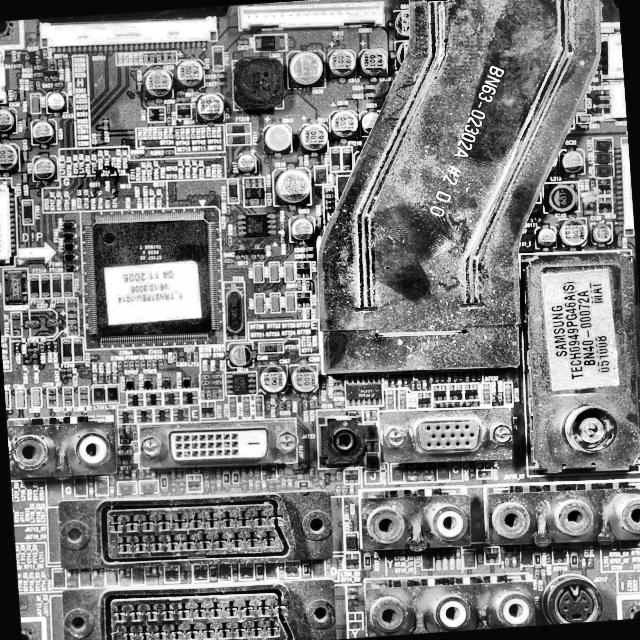PCB: (0, 7, 640, 639)
